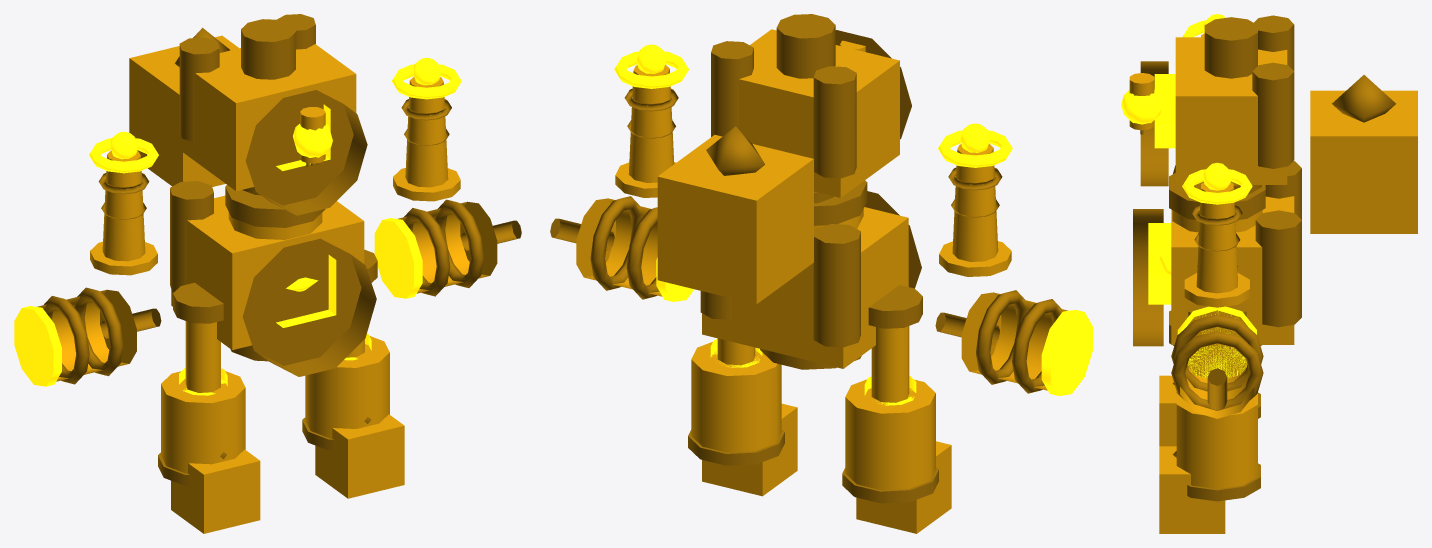
File: golem_122.glb
3 renders of one model, left to right at view 1: azimuth 30°, elevation 25°; view 2: azimuth 150°, elevation 25°; view 3: azimuth 270°, elevation 25°, orthographic. The views are drawn at different scales.
Parts seen in each view (by area): view 1: Body, Detail, Glow; view 2: Body, Detail, Glow; view 3: Body, Detail, Glow.
Part boxes in pixels (x1,y1,x2,y2): Body: (37, 35, 497, 533); Detail: (44, 14, 521, 485); Glow: (14, 58, 461, 395); Body: (576, 29, 1067, 533); Detail: (550, 14, 1061, 503); Glow: (614, 44, 1092, 405); Body: (1129, 34, 1417, 533); Detail: (1133, 15, 1395, 501); Glow: (1121, 14, 1256, 378).
Bounding box in the file's own units: 1.41 × 1.26 × 0.744.
